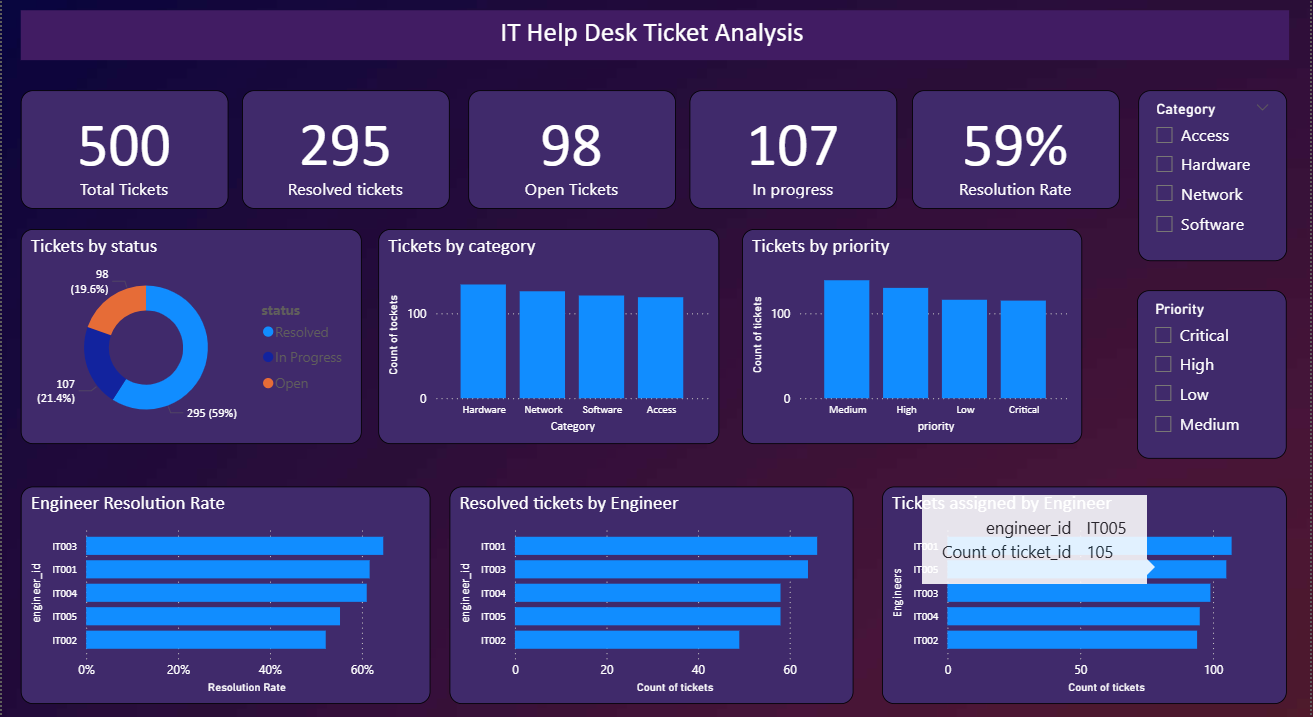

Layout of this report page (visuals, bound fields, positions):
{"tool":"powerbi","page":{"name":"Page 1","canvas":[1280,720],"ordinal":0},"visuals":[{"type":"card","fields":{"Values":["CountNonNull(it_helpdesk tickets.ticket_id)"]},"box":[18.3,103.9,203,116.2],"z":0},{"type":"card","fields":{"Values":["CountNonNull(it_helpdesk tickets.ticket_id)"]},"box":[234.8,103.9,203,116.2],"z":2000},{"type":"card","fields":{"Values":["CountNonNull(it_helpdesk tickets.ticket_id)"]},"box":[672.6,103.9,203,116.2],"z":3000},{"type":"card","fields":{"Values":["it_helpdesk tickets.Resolution Rate"]},"box":[890.2,103.9,203,116.2],"z":5000},{"type":"clusteredColumnChart","title":"Tickets  by category","fields":{"Category":["it_helpdesk tickets.category"],"Y":["CountNonNull(it_helpdesk tickets.ticket_id)"]},"box":[368.1,239.7,333.8,210.3],"z":6000},{"type":"donutChart","title":"Tickets by status","fields":{"Category":["it_helpdesk tickets.status"],"Y":["CountNonNull(it_helpdesk tickets.ticket_id)"]},"box":[18.3,239.7,333.8,210.3],"z":7000},{"type":"clusteredColumnChart","title":"Tickets by priority","fields":{"Category":["it_helpdesk tickets.priority"],"Y":["CountNonNull(it_helpdesk tickets.ticket_id)"]},"box":[723.9,239.7,332.6,210.3],"z":8000},{"type":"clusteredBarChart","title":"Engineer Resolution Rate","fields":{"Category":["it_helpdesk tickets.engineer_id"],"Y":["it_helpdesk tickets.Resolution Rate"]},"box":[18.3,491.6,401.1,212.8],"z":9000},{"type":"clusteredBarChart","title":"Tickets assigned by Engineer","fields":{"Category":["it_helpdesk tickets.engineer_id"],"Y":["CountNonNull(it_helpdesk tickets.ticket_id)"]},"box":[860.9,491.6,396.2,212.8],"z":10000},{"type":"clusteredBarChart","title":"Resolved tickets by Engineer","fields":{"Category":["it_helpdesk tickets.engineer_id"],"Y":["CountNonNull(it_helpdesk tickets.ticket_id)"]},"box":[437.8,491.6,395,212.8],"z":11000},{"type":"textbox","box":[18.3,25.7,1241.2,48.9],"z":14000},{"type":"slicer","fields":{"Values":["it_helpdesk tickets.category"]},"box":[1111.6,103.9,145.5,167.5],"z":14001},{"type":"slicer","fields":{"Values":["it_helpdesk tickets.priority"]},"box":[1110.3,299.6,146.7,165.1],"z":14002},{"type":"card","fields":{"Values":["CountNonNull(it_helpdesk tickets.ticket_id)"]},"box":[456.1,103.9,203,116.2],"z":14003}]}

Visuals, with their boxes on the page's 1280x720 design canvas (x1, y1, x2, y2). These are canvas units, not pixel positions in the 1313x717 screenshot, which may show the page scaled, cropped or inside an application window:
card - CountNonNull(it_helpdesk tickets.ticket_id): bbox=[18, 104, 221, 220]
card - CountNonNull(it_helpdesk tickets.ticket_id): bbox=[235, 104, 438, 220]
card - CountNonNull(it_helpdesk tickets.ticket_id): bbox=[673, 104, 876, 220]
card - it_helpdesk tickets.Resolution Rate: bbox=[890, 104, 1093, 220]
"Tickets  by category" clusteredColumnChart: bbox=[368, 240, 702, 450]
"Tickets by status" donutChart: bbox=[18, 240, 352, 450]
"Tickets by priority" clusteredColumnChart: bbox=[724, 240, 1056, 450]
"Engineer Resolution Rate" clusteredBarChart: bbox=[18, 492, 419, 704]
"Tickets assigned by Engineer" clusteredBarChart: bbox=[861, 492, 1257, 704]
"Resolved tickets by Engineer" clusteredBarChart: bbox=[438, 492, 833, 704]
textbox: bbox=[18, 26, 1260, 75]
slicer - it_helpdesk tickets.category: bbox=[1112, 104, 1257, 271]
slicer - it_helpdesk tickets.priority: bbox=[1110, 300, 1257, 465]
card - CountNonNull(it_helpdesk tickets.ticket_id): bbox=[456, 104, 659, 220]
